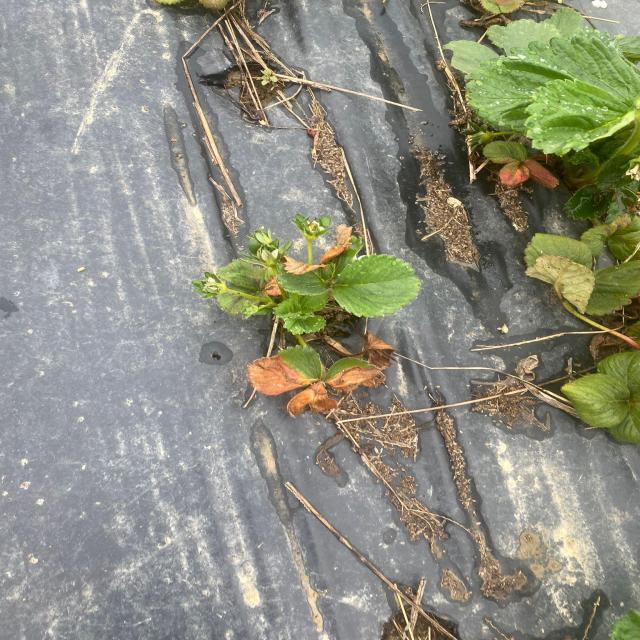flower: (449, 0, 639, 165)
